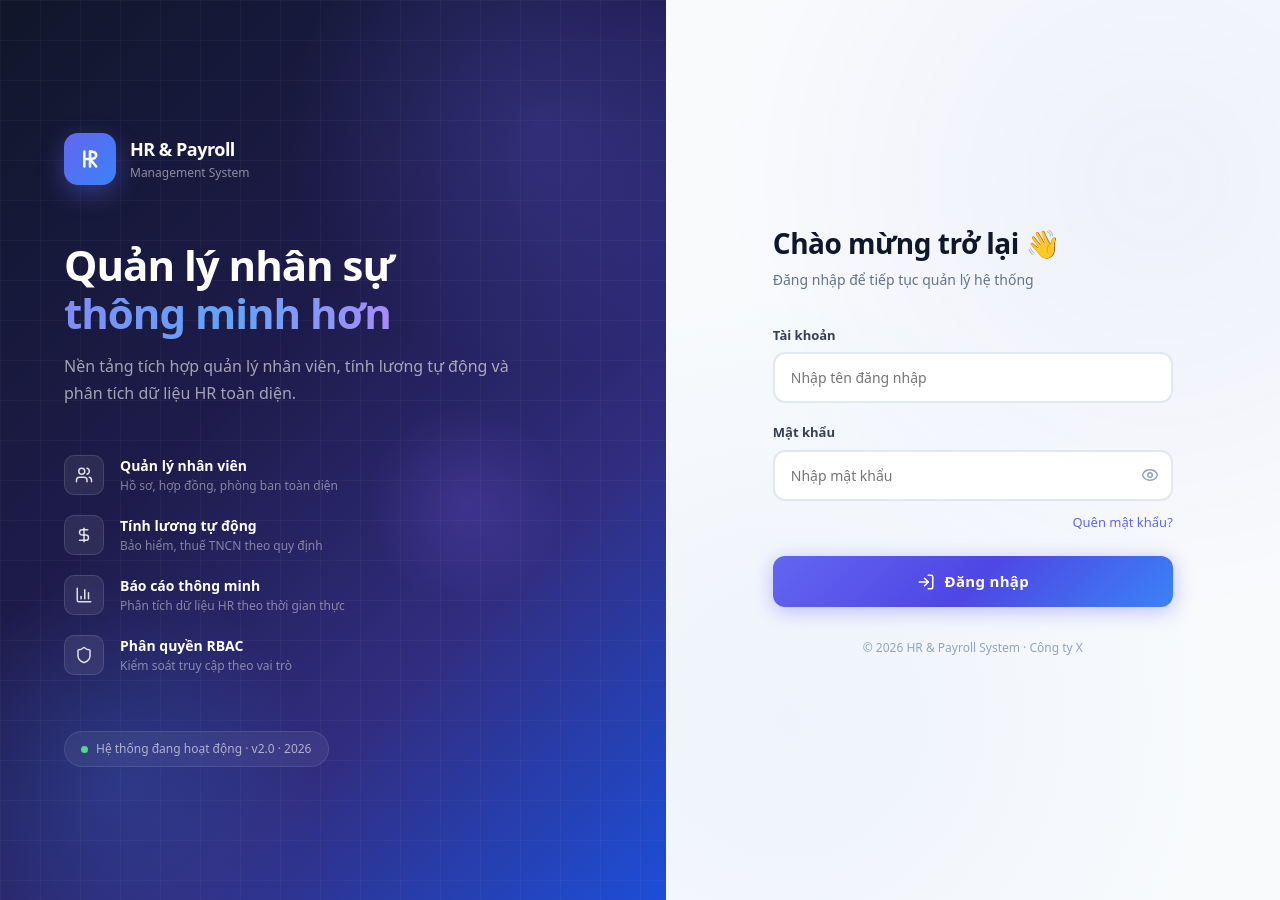
Test: Form validation › lỗi tự xóa khi người dùng gõ lại
Note: Trigger lỗi
Step 1. Click the button "Đăng nhập" → point(973, 582), box [773,556,1173,607]
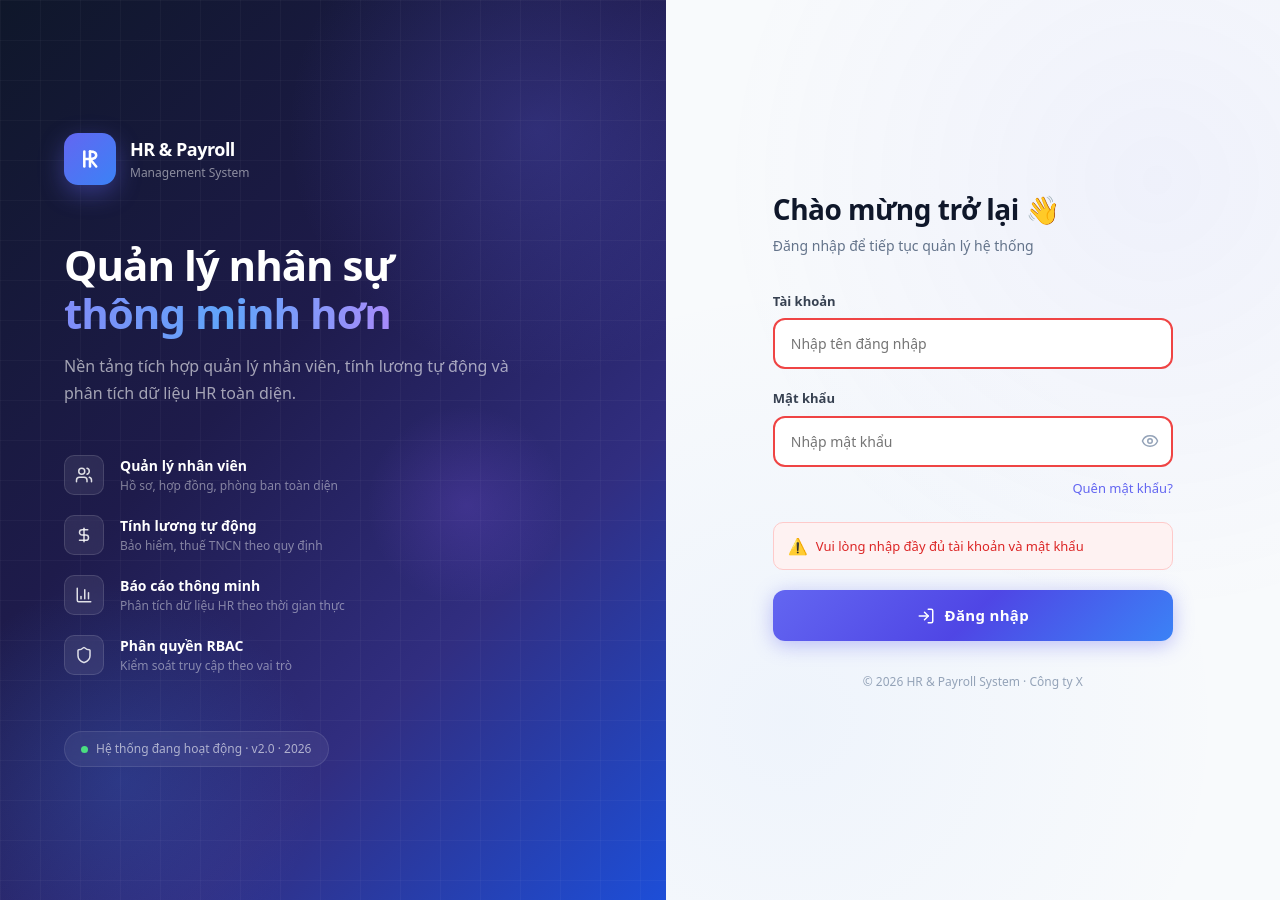
Expected: the text "⚠️ Vui lòng nhập đầy đủ tài khoản và mật khẩu" is shown, [773,522,1173,570]
Note: Gõ vào username → lỗi biến mất
Step 2. Type "a" into the field with placeholder "Nhập tên đăng nhập" → point(973, 344), box [773,318,1173,369]
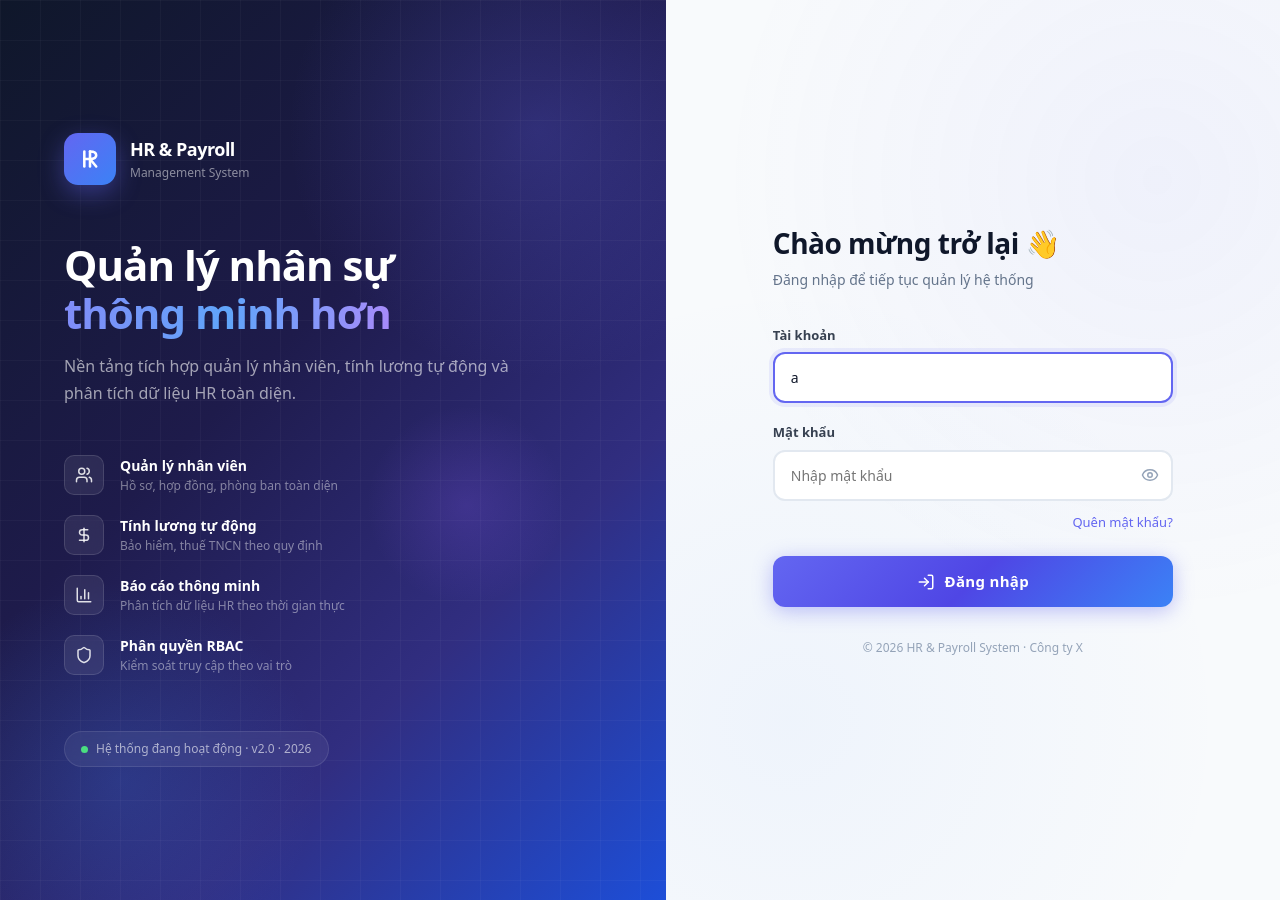
Expected: the text "Vui lòng nhập đầy đủ" is gone
